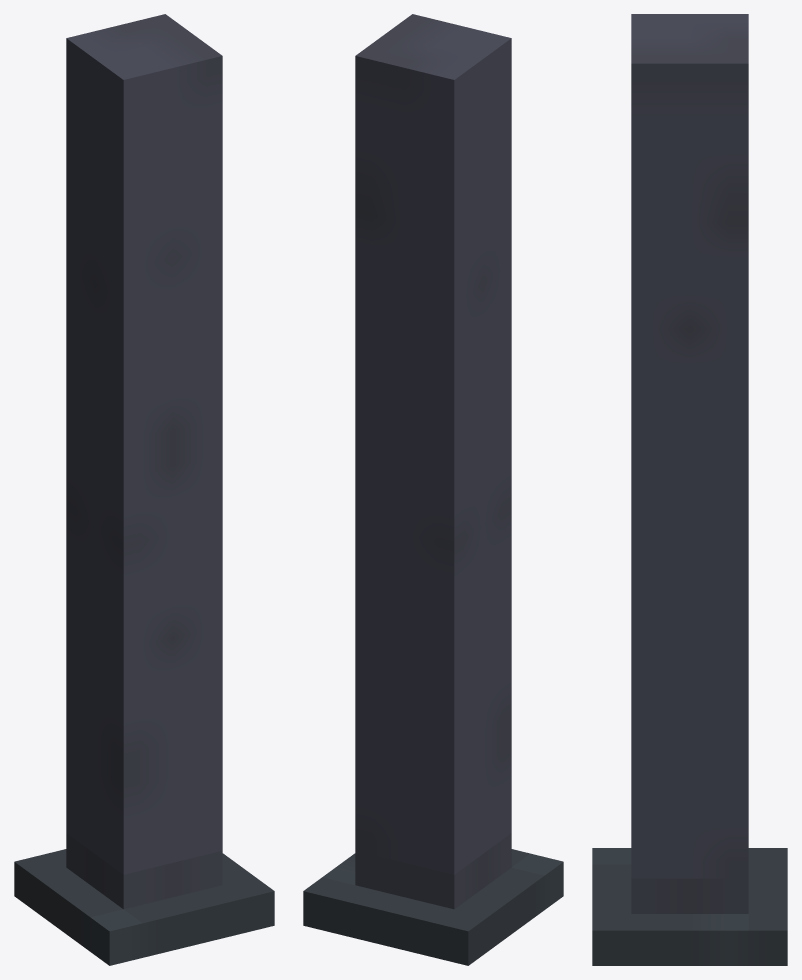
File: Pillar-1.fbx
The picture shows the model from 3 angles, left to right: view 1: azimuth 30°, elevation 25°; view 2: azimuth 150°, elevation 25°; view 3: azimuth 270°, elevation 25°; orthographic projection. The views are drawn at different scales.
Parts seen in each view (by area): view 1: Pillar_1; view 2: Pillar_1; view 3: Pillar_1.
Part boxes in pixels (x1=…): Pillar_1: x1=14, y1=14, x2=274, y2=965; Pillar_1: x1=303, y1=14, x2=563, y2=965; Pillar_1: x1=592, y1=14, x2=787, y2=965.
Size of the model in its own units: 50 by 250 by 50.
1 material, 1 textured.
